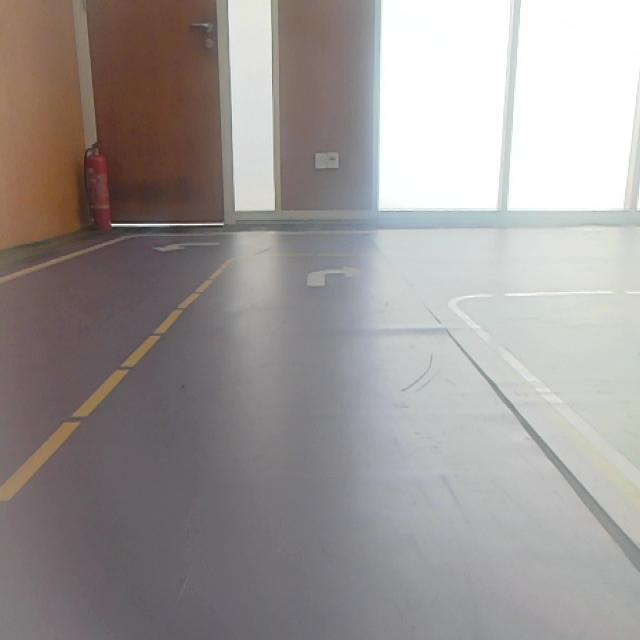left_lane: (1, 257, 234, 511)
right_lane: (444, 303, 640, 512)
